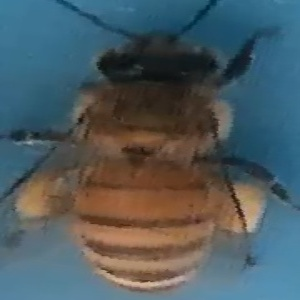bee: (2, 19, 293, 296)
